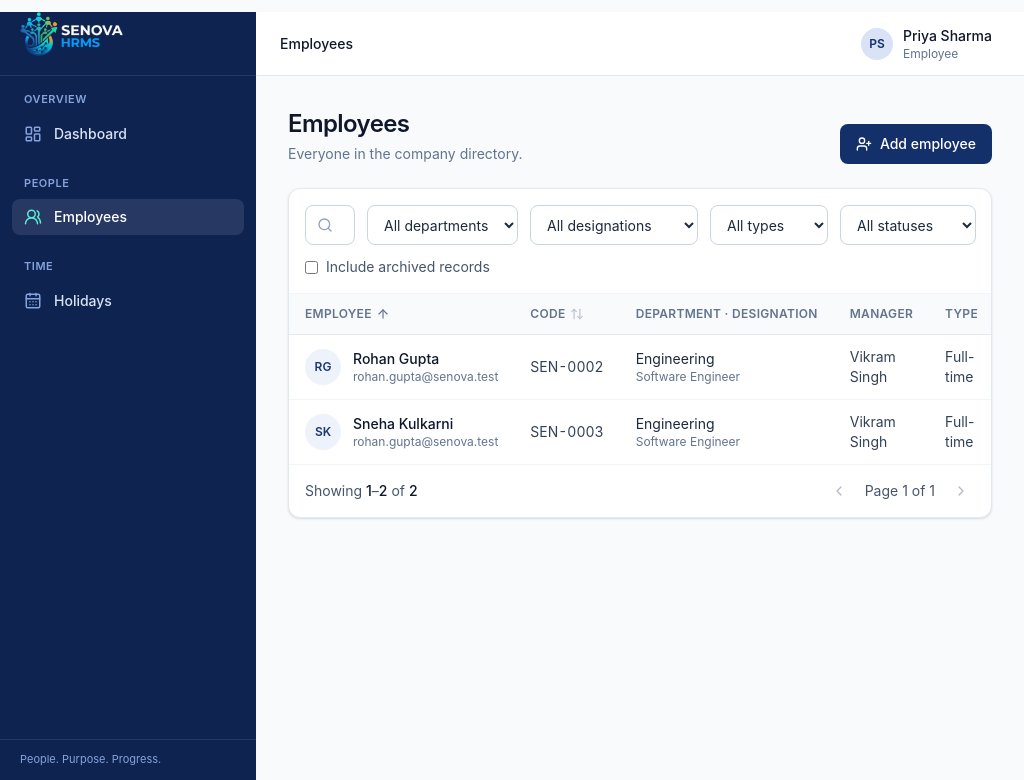
Test: employee directory › lists employees and sends filters to the server
The image size is (1024, 780).
Expected: the text "Sneha Kulkarni" is shown, [353,415,453,432]
Expected: the link "Add employee" is shown, [840,124,992,164]
Select "Engineering" in the dropdown named "Filter by department": (442, 225) [367,205,518,245]
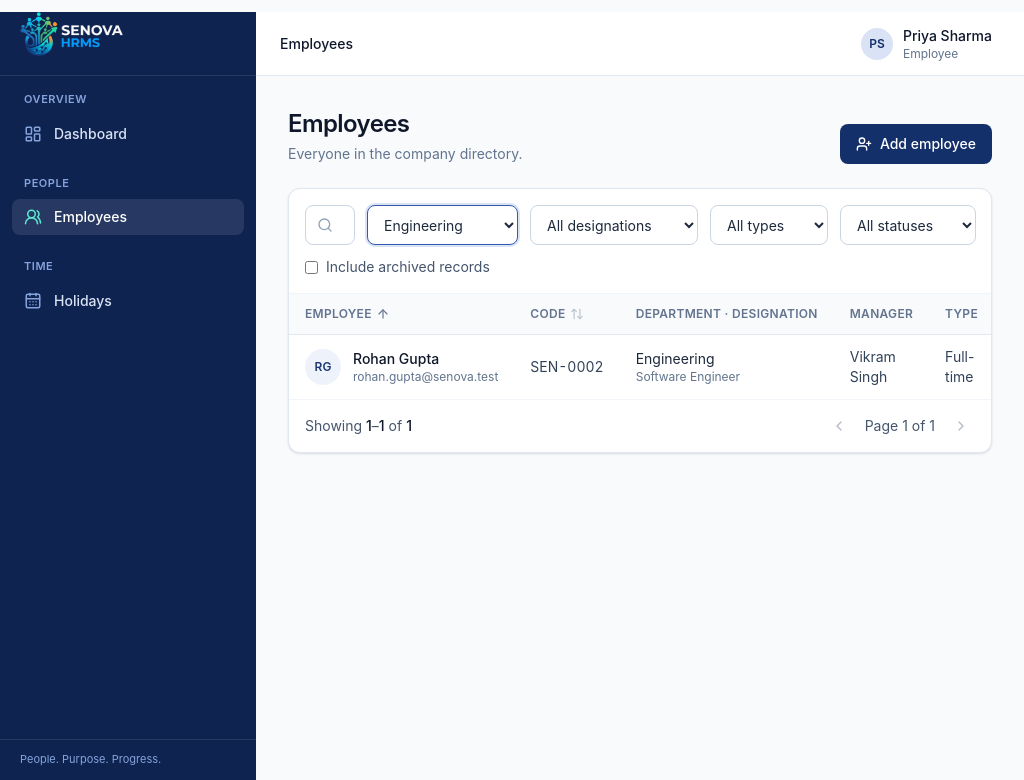
Result: the link "Sneha Kulkarni" is gone
